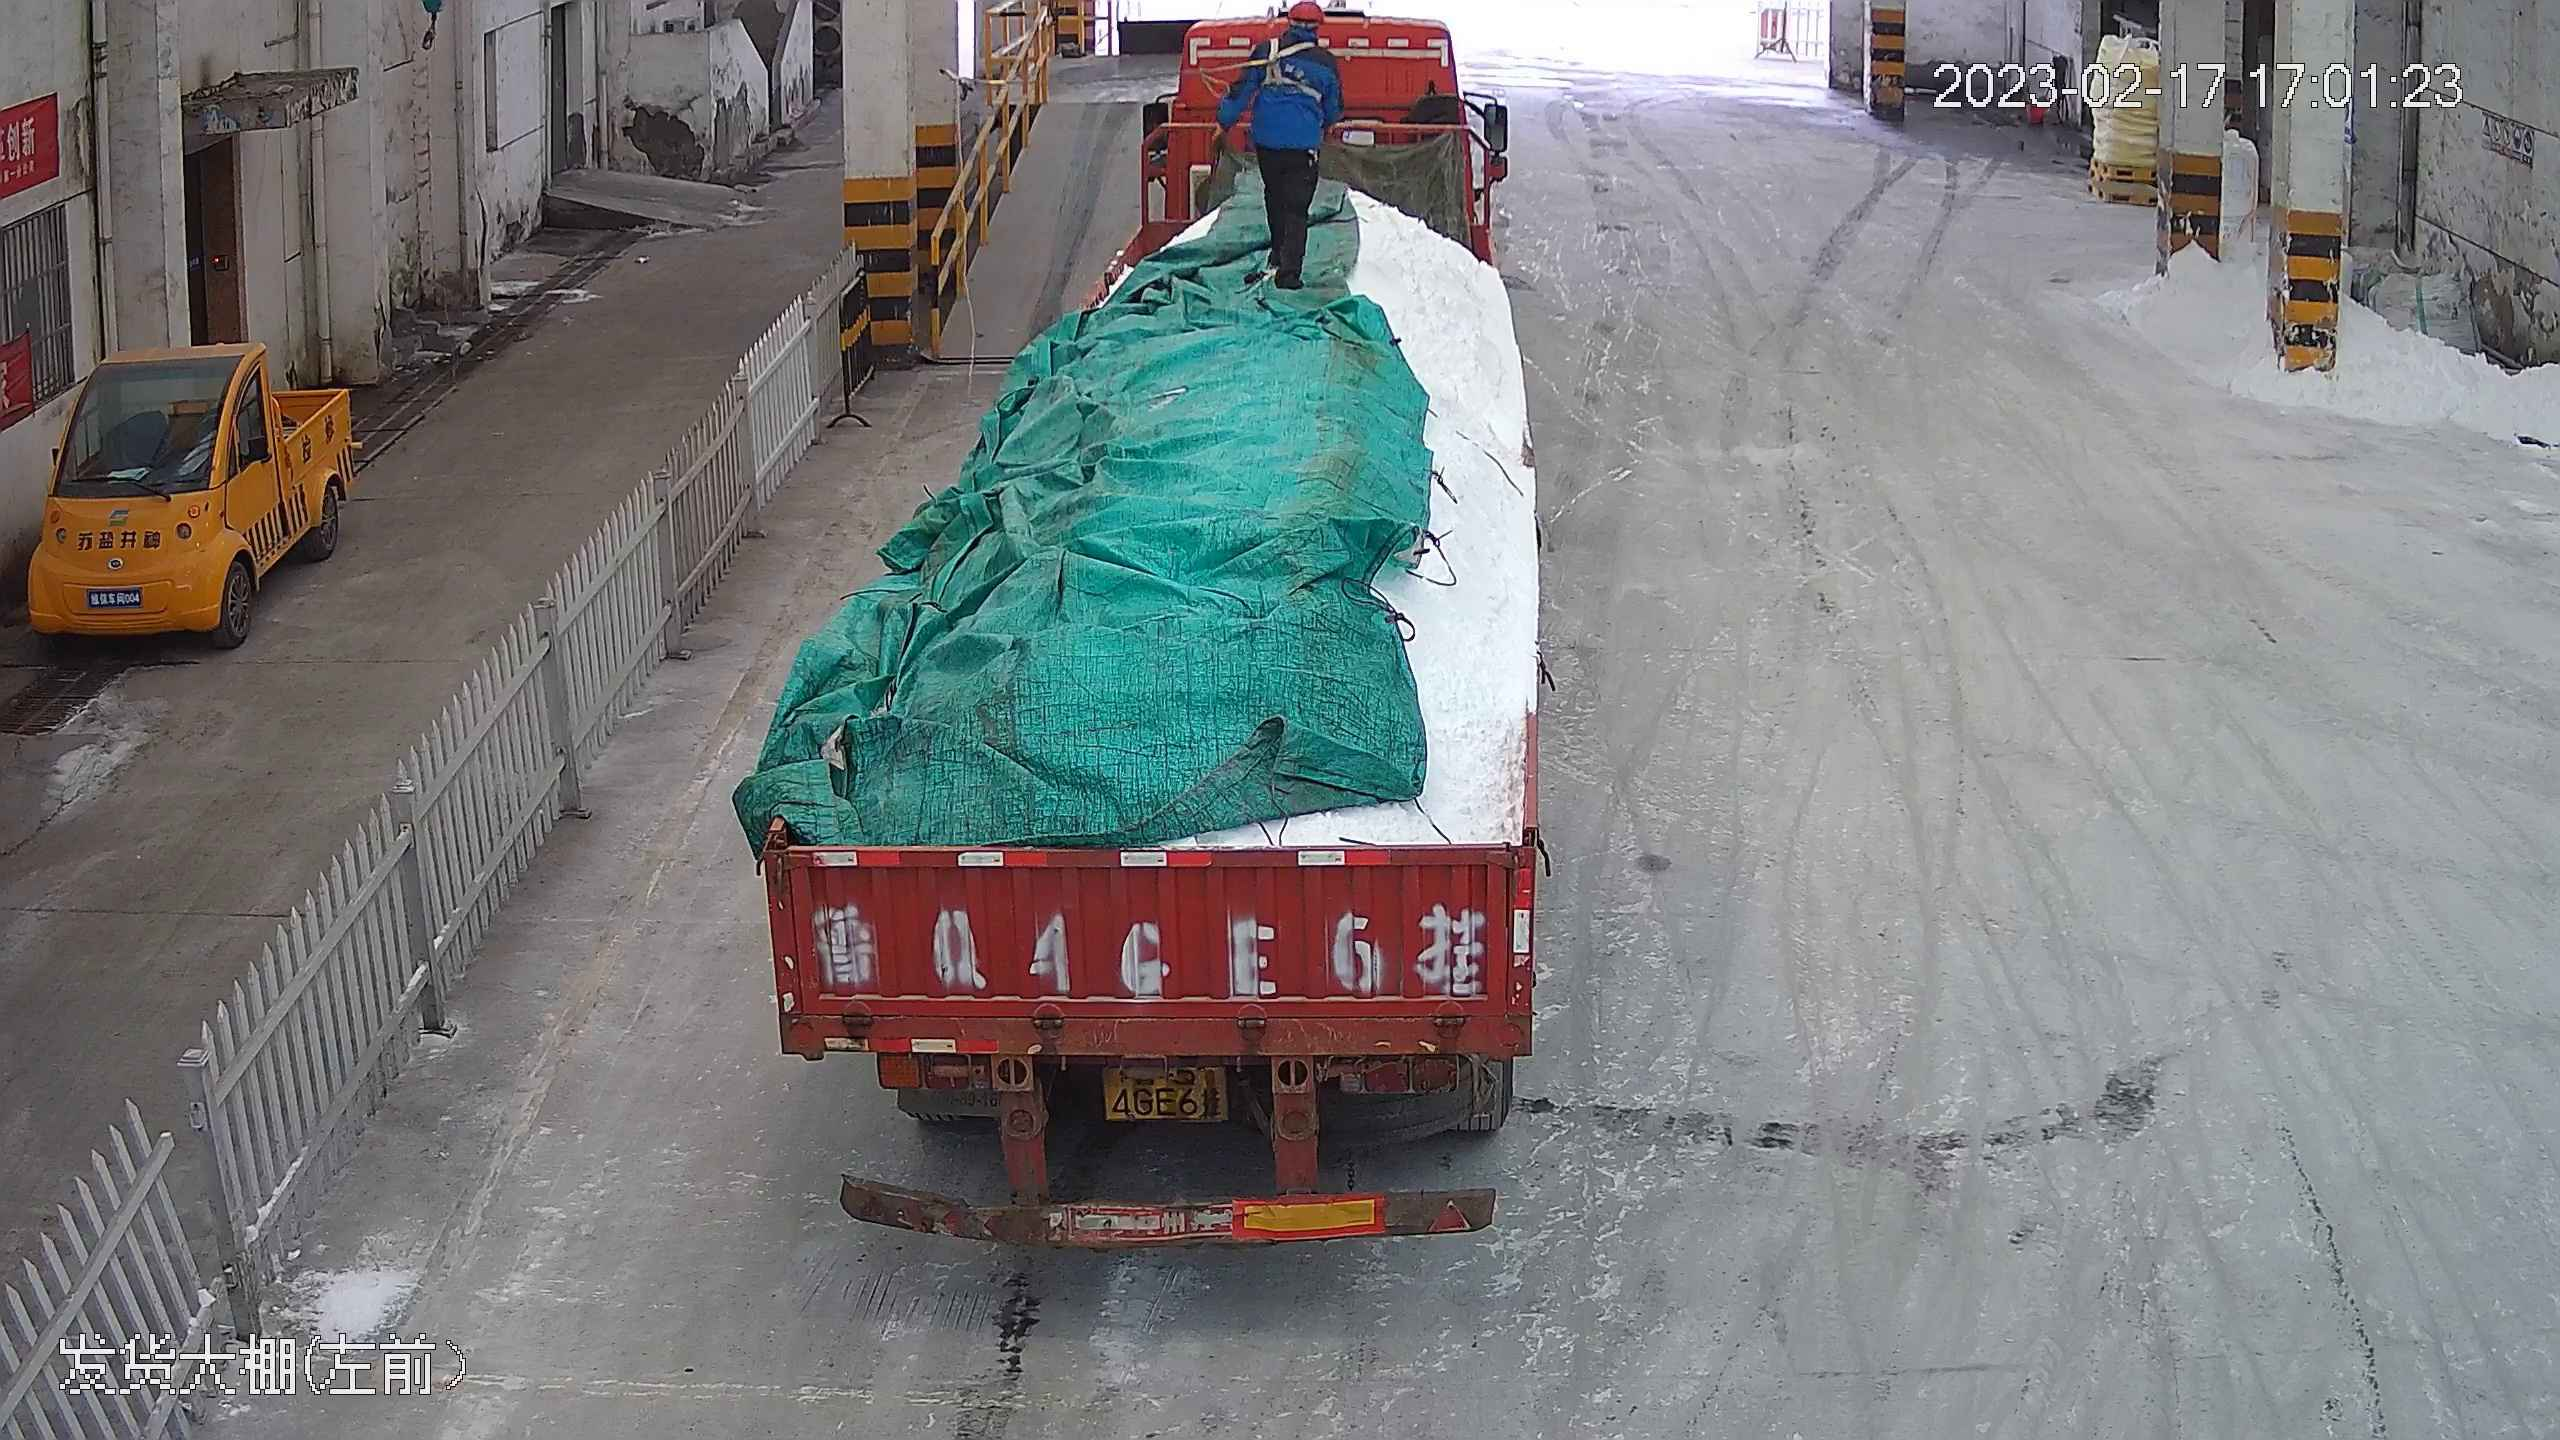belt: (1249, 34, 1314, 101)
head: (1272, 4, 1334, 69)
helmet: (1286, 1, 1327, 36)
people: (1206, 1, 1353, 298)
truck: (760, 1, 1558, 1271)
